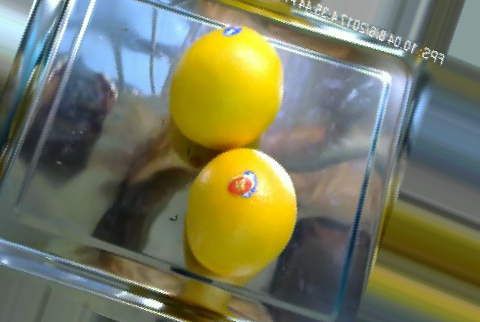Orange: (184, 147, 297, 279), (167, 25, 284, 147)
